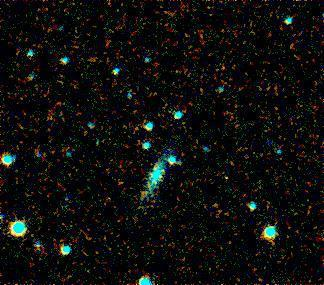star: (214, 167, 244, 197)
